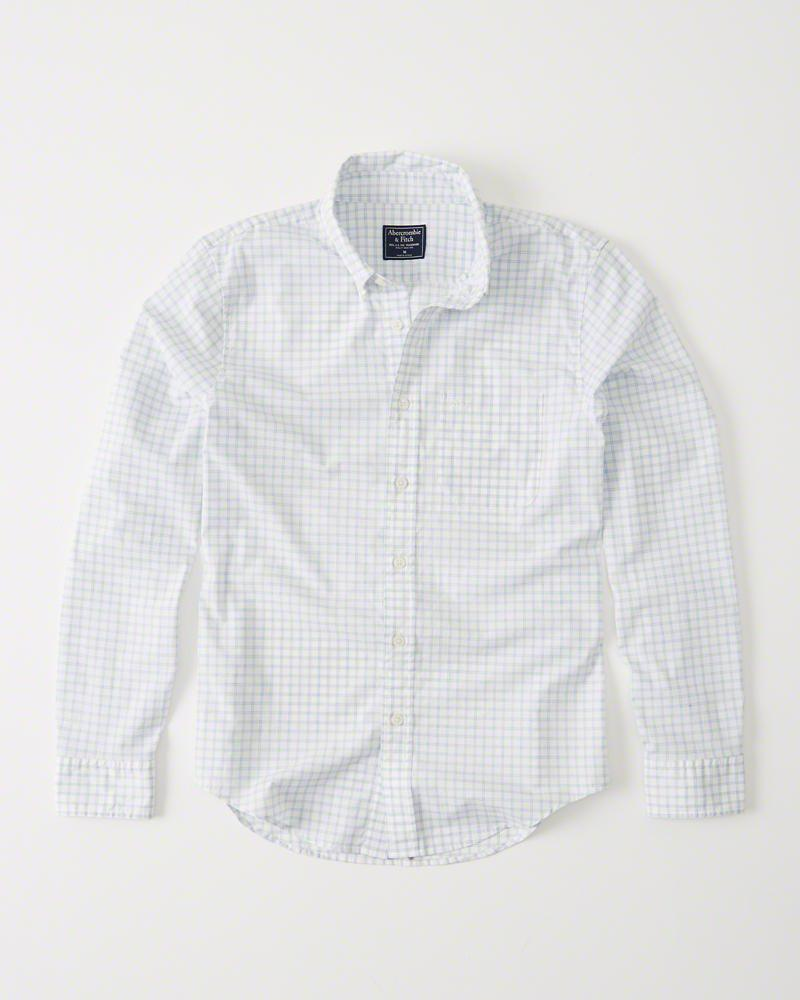teeshirt: (52, 154, 768, 850)
